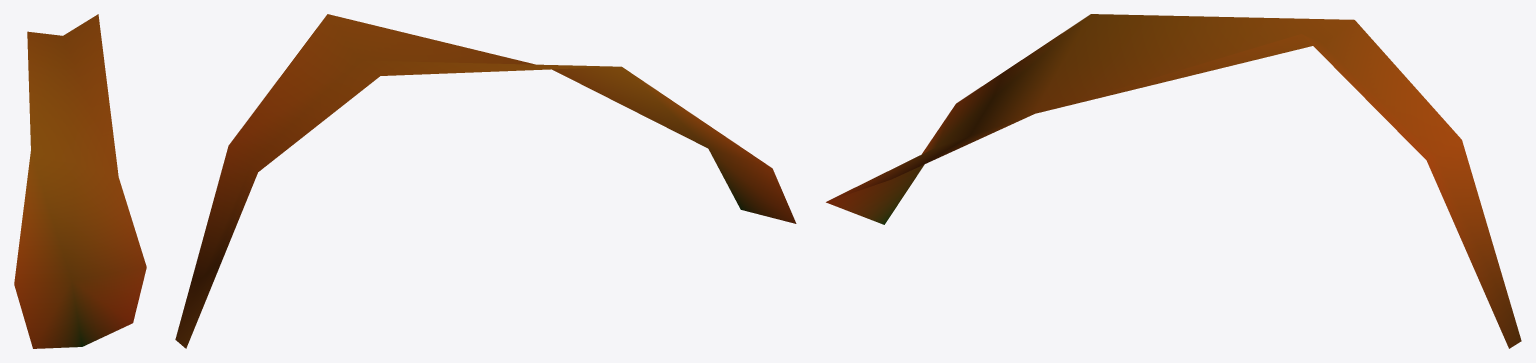
Rendered from SM_Corn_LaafParticle_2.fbx.
3 renders of one model, left to right at view 1: azimuth 30°, elevation 25°; view 2: azimuth 150°, elevation 25°; view 3: azimuth 270°, elevation 25°, orthographic. The views are drawn at different scales.
Parts seen in each view (by area): view 1: SM_Corn_LaafParticle_2; view 2: SM_Corn_LaafParticle_2; view 3: SM_Corn_LaafParticle_2.
Boxes of the visible parts, box(x1,y1,x2,y2) form: SM_Corn_LaafParticle_2: box(14, 14, 146, 348); SM_Corn_LaafParticle_2: box(175, 14, 796, 348); SM_Corn_LaafParticle_2: box(826, 14, 1521, 348).
Size of the model in its own units: 0.3572 by 0.2877 by 0.5957.
